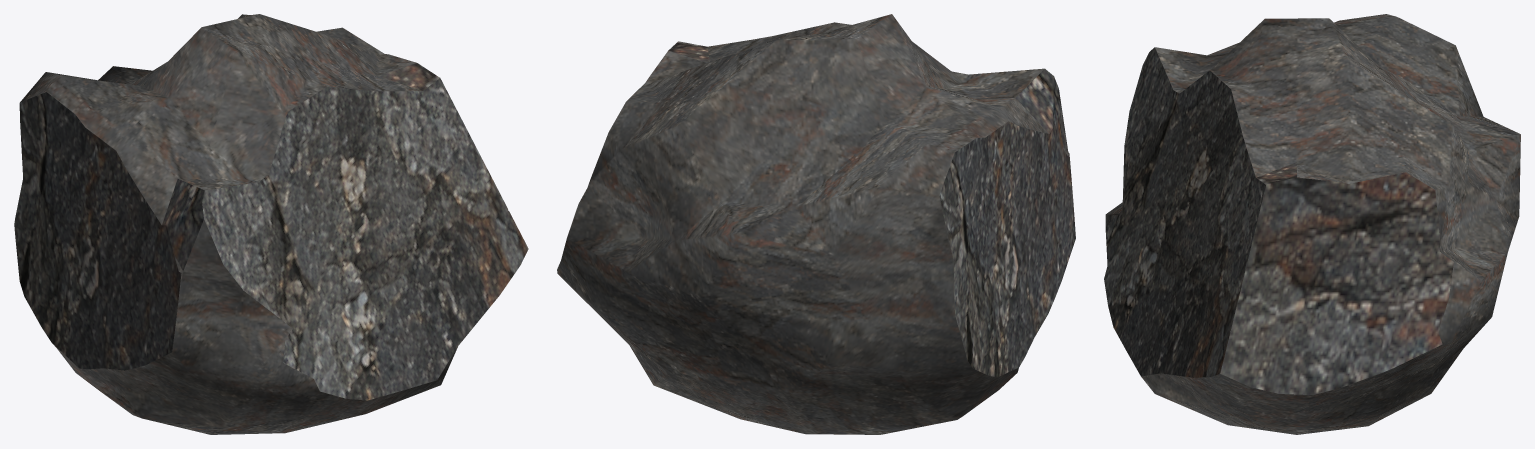
The model's file is SM_HarvestRock_Mined01.fbx.
The picture shows the model from 3 angles, left to right: view 1: azimuth 30°, elevation 25°; view 2: azimuth 150°, elevation 25°; view 3: azimuth 270°, elevation 25°; orthographic projection. The views are drawn at different scales.
Parts seen in each view (by area): view 1: SM_HarvestRock_Mined01; view 2: SM_HarvestRock_Mined01; view 3: SM_HarvestRock_Mined01.
Part boxes in pixels (<box>): SM_HarvestRock_Mined01: <box>14,14,528,434</box>; SM_HarvestRock_Mined01: <box>557,14,1075,434</box>; SM_HarvestRock_Mined01: <box>1104,14,1520,434</box>.
Bounding box in the file's own units: 160 × 148 × 136.
